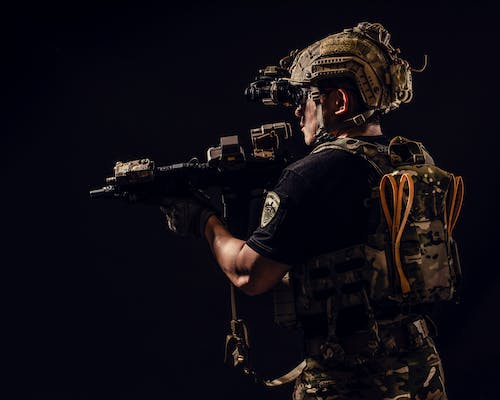gun: (86, 119, 292, 238)
